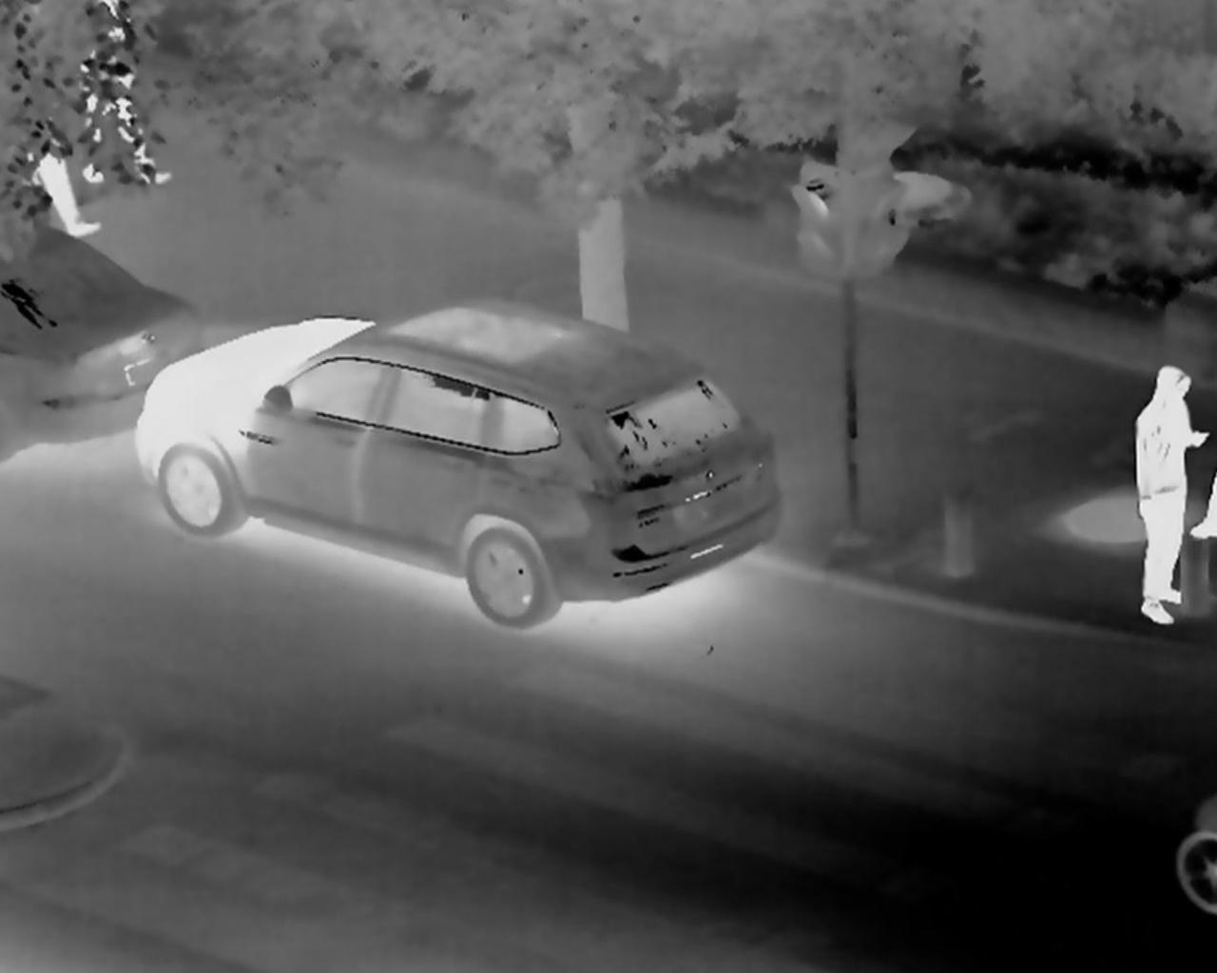person: (1130, 360, 1207, 626)
